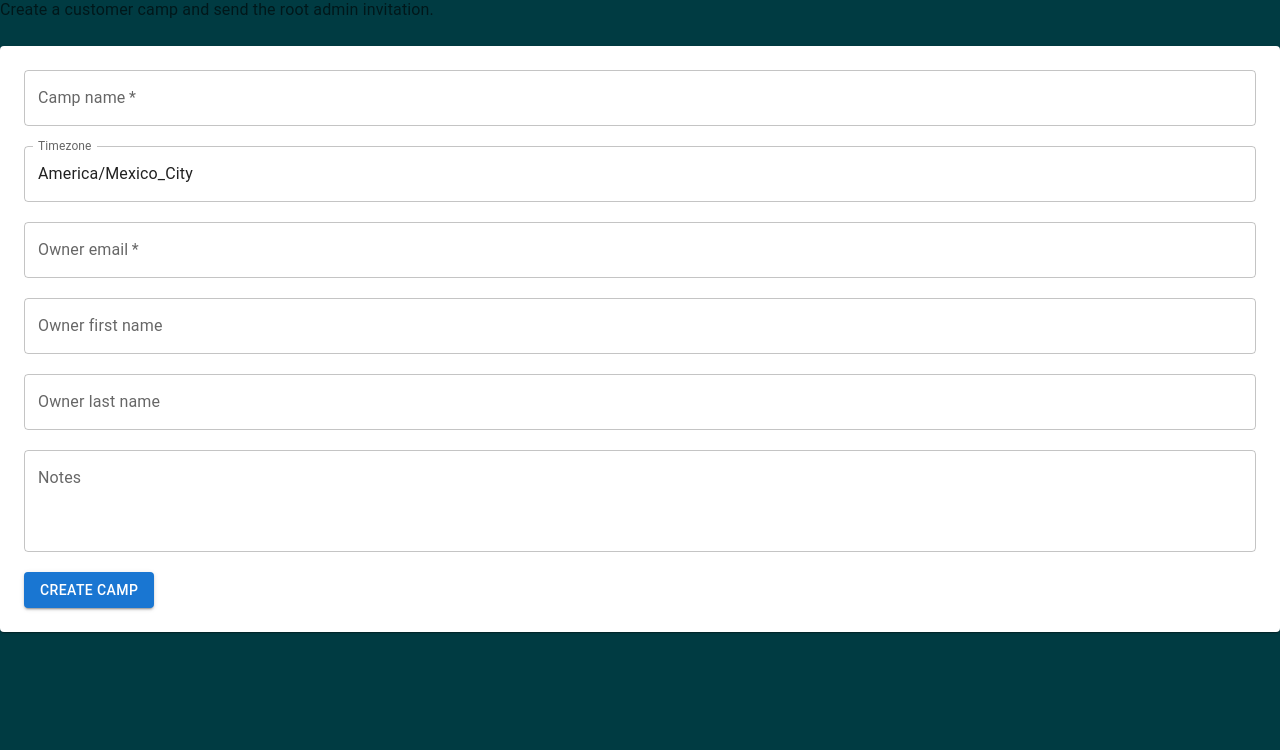
Test: NewCampPage › submits the expected payload and shows success
Type "  Camp Laurel  " into the field labelled "Camp name *" at point(640, 98), box [24,70,1256,126]
Replace the text in the field labelled "Timezone" with "  America/Chicago  " at point(640, 174), box [24,146,1256,202]
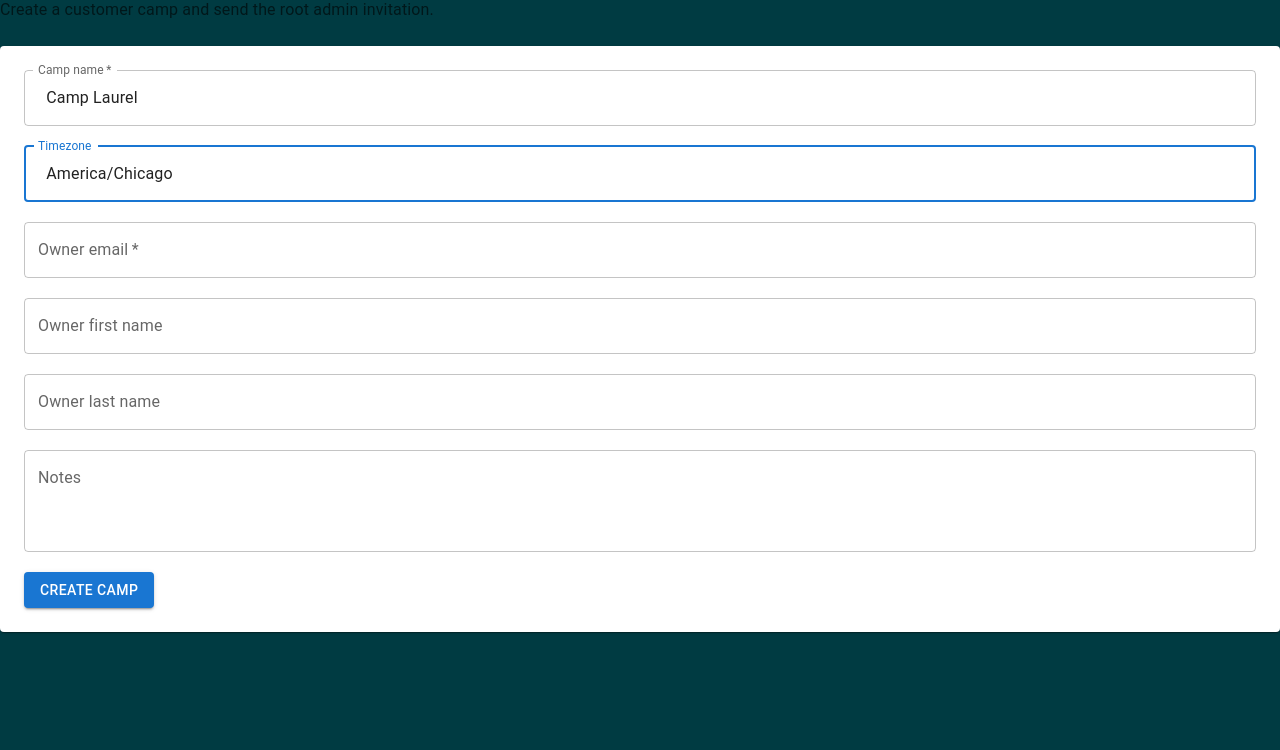
Type "  owner@example.com  " into the field labelled "Owner email *" at point(640, 250), box [24,222,1256,278]
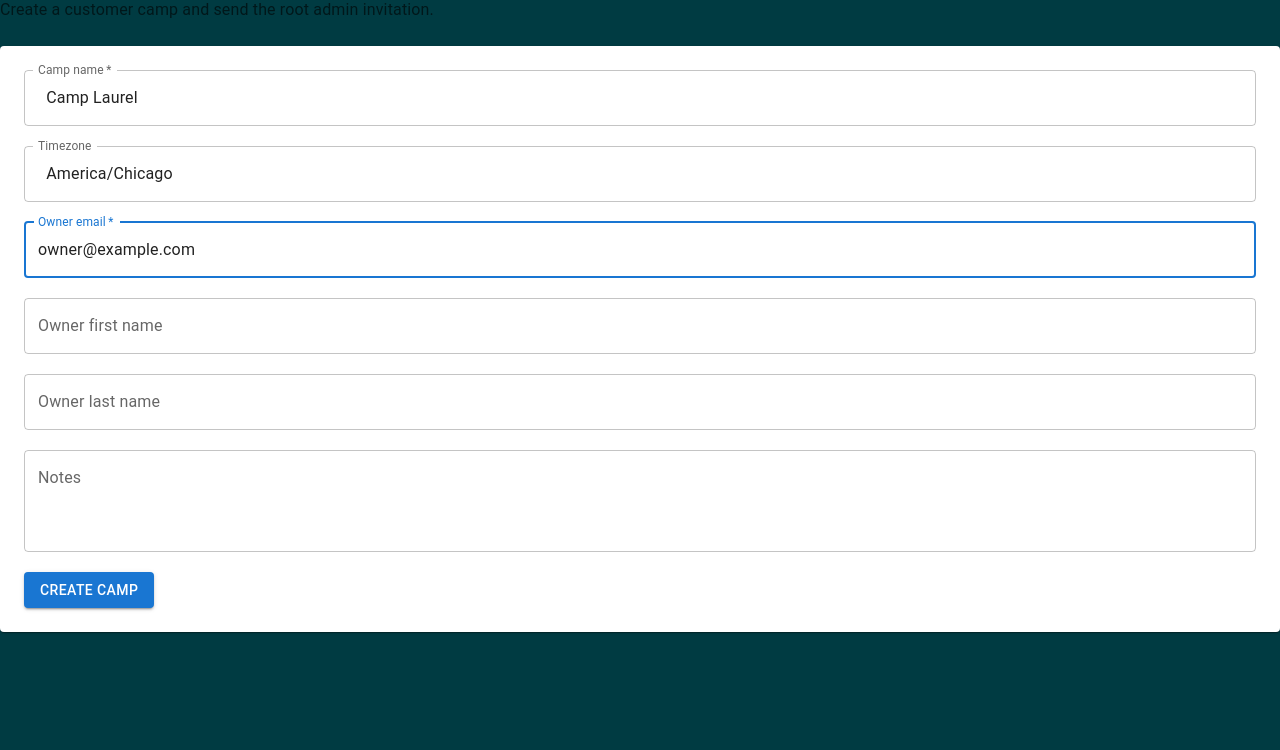
Type "  Morgan  " into the field labelled "Owner first name" at point(640, 326), box [24,298,1256,354]
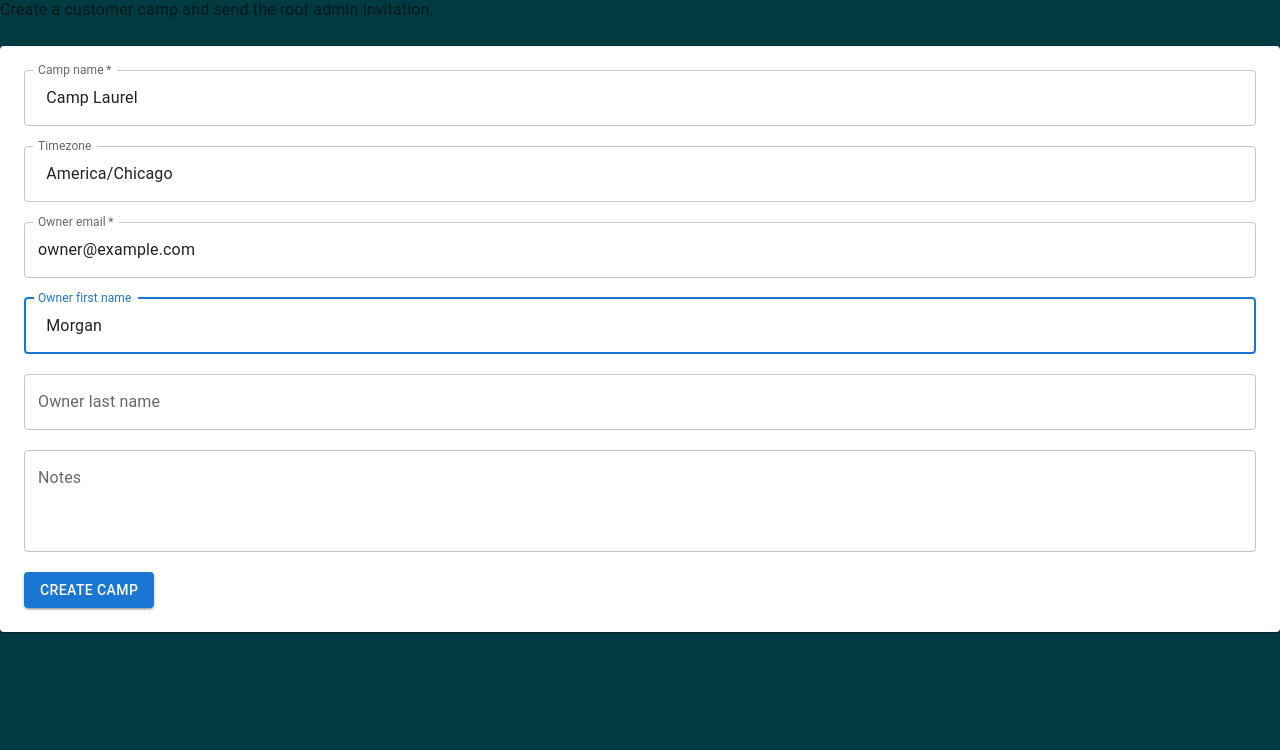
Type "  Diaz  " into the field labelled "Owner last name" at point(640, 402), box [24,374,1256,430]
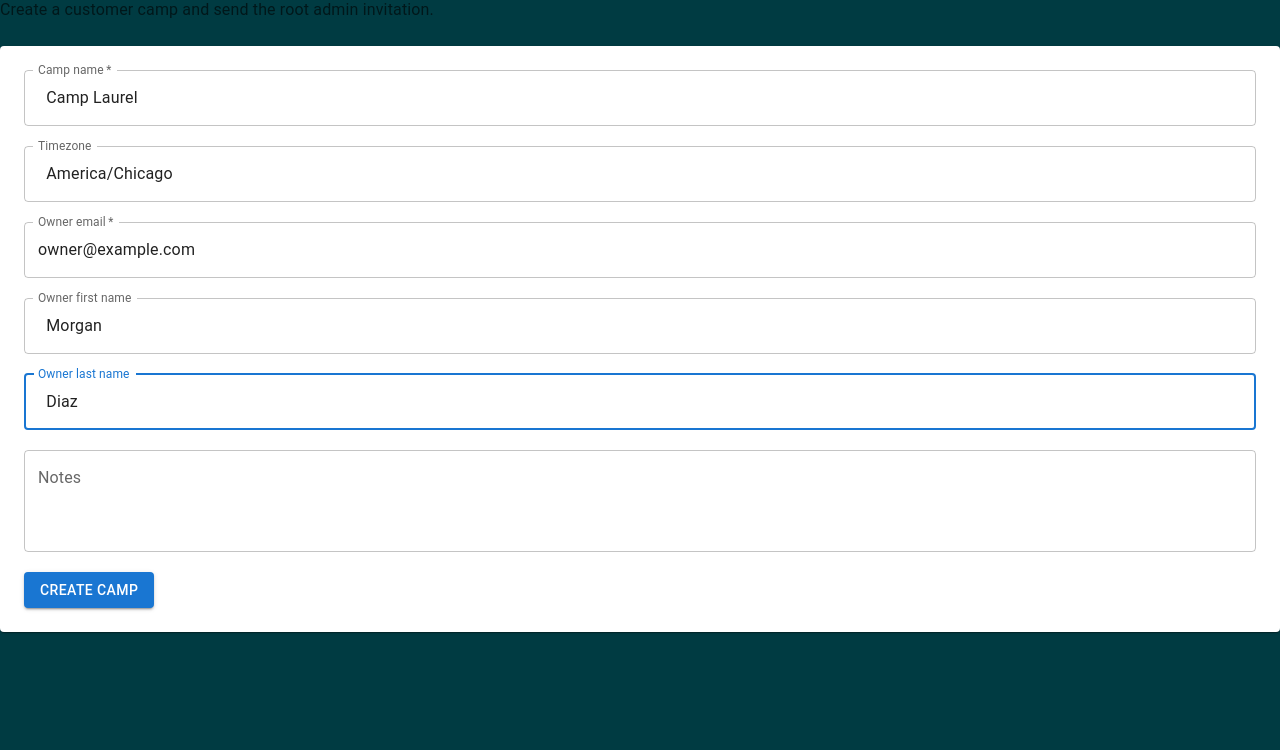
Type "  Start with week one.  " into the text box labelled "Notes" at point(640, 501), box [38,466,1242,536]
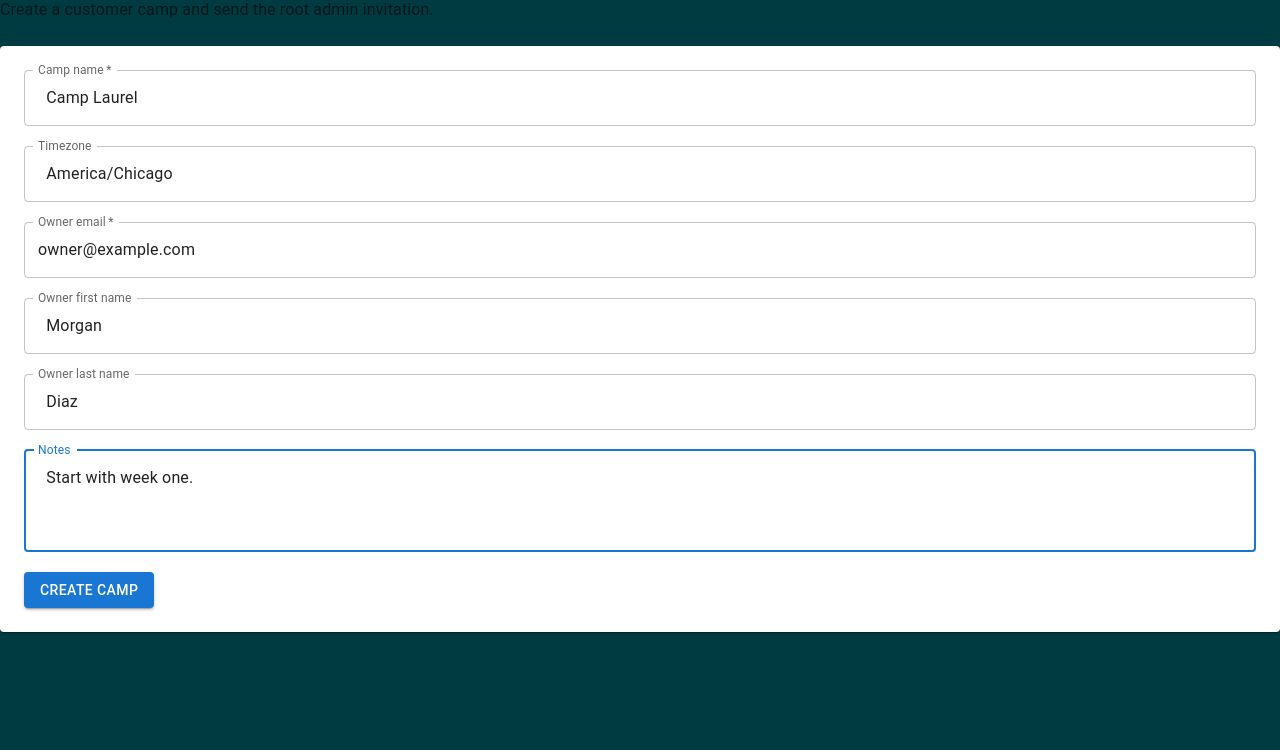
Click the button "Create camp" at point(89, 590), box [24,572,154,608]
(page scrolled)
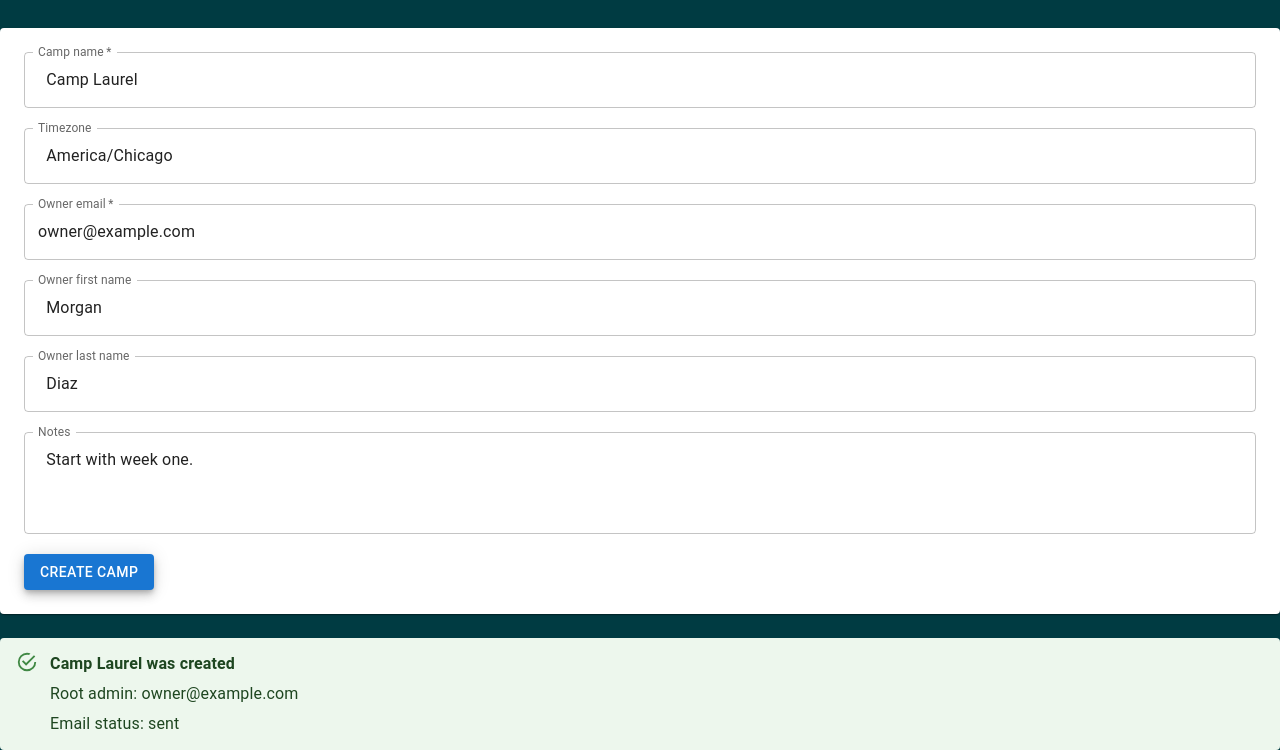
expect the text "Camp Laurel was created" is shown: met, box [50,654,235,674]
expect the text "Root admin: owner@example.com" is shown: met, box [50,682,298,706]
expect the text "Email status: sent" is shown: met, box [50,714,180,734]
